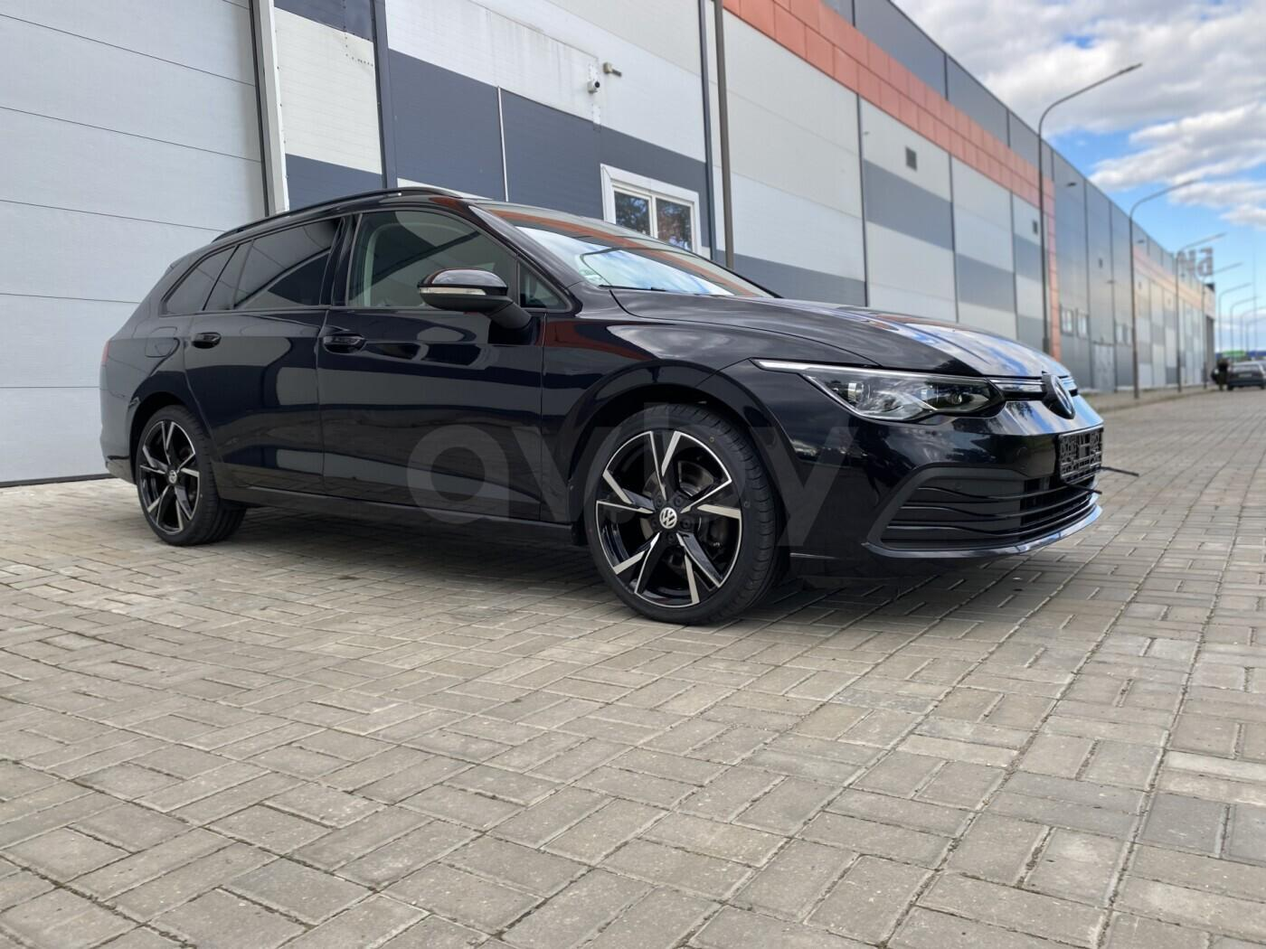Golf_2019: (88, 185, 1115, 621)
